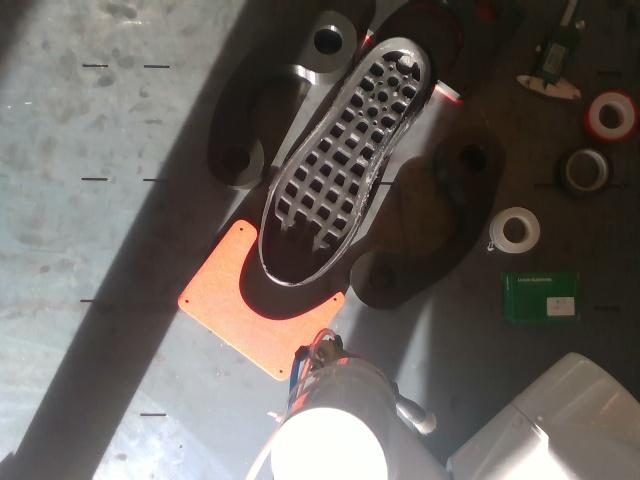shoes: (262, 38, 430, 283)
